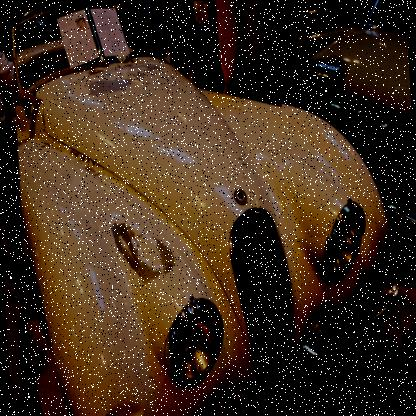Car: (10, 0, 407, 415), (275, 0, 415, 240), (266, 8, 360, 97)
